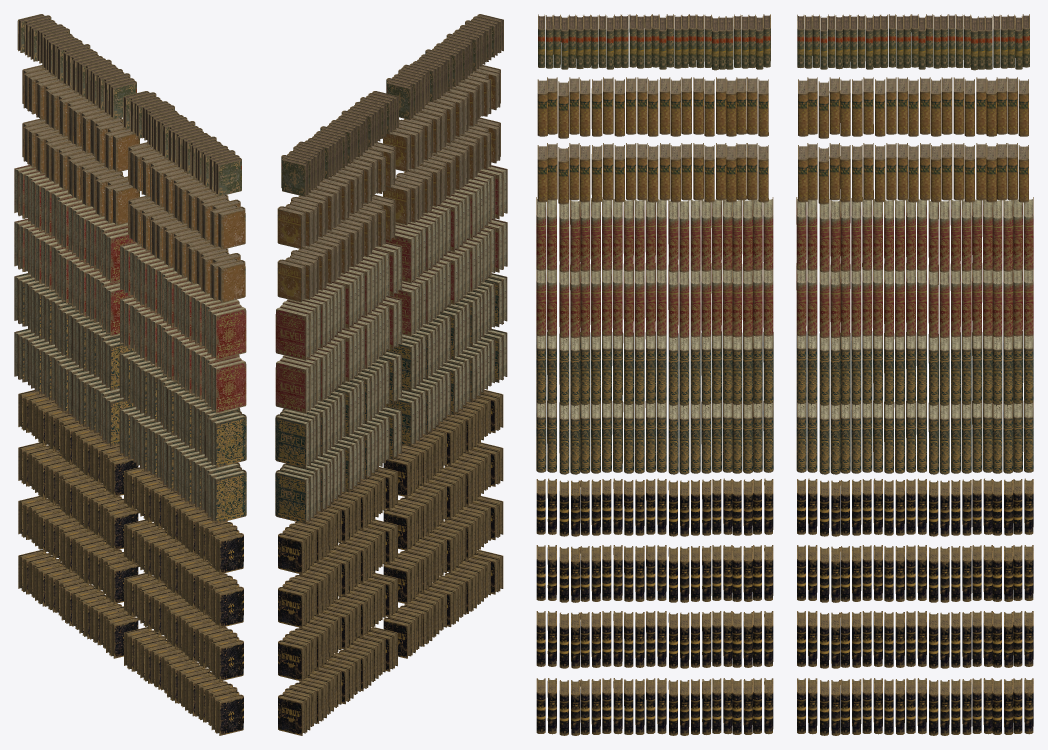
Rendered from sm39_178_largebookshelsetf01.fbx.
3 renders of one model, left to right at view 1: azimuth 30°, elevation 25°; view 2: azimuth 150°, elevation 25°; view 3: azimuth 270°, elevation 25°, orthographic. The views are drawn at different scales.
Visible parts, largest first — view 1: LOD_1_Group_3_Sub_1__sm36_001_BookSet01A_A_Mat, LOD_1_Group_2_Sub_1__sm36_001_BookSet01A_A_Mat, LOD_1_Group_4_Sub_1__sm36_001_BookSet01A_A_Mat, LOD_1_Group_5_Sub_1__sm36_001_BookSet01A_A_Mat, LOD_1_Group_7_Sub_1__sm36_001_BookSet01A_A_Mat, LOD_1_Group_8_Sub_1__sm36_001_BookSet01A_A_Mat, LOD_1_Group_6_Sub_1__sm36_001_BookSet01A_A_Mat; view 2: LOD_1_Group_3_Sub_1__sm36_001_BookSet01A_A_Mat, LOD_1_Group_4_Sub_1__sm36_001_BookSet01A_A_Mat, LOD_1_Group_2_Sub_1__sm36_001_BookSet01A_A_Mat, LOD_1_Group_5_Sub_1__sm36_001_BookSet01A_A_Mat, LOD_1_Group_7_Sub_1__sm36_001_BookSet01A_A_Mat, LOD_1_Group_6_Sub_1__sm36_001_BookSet01A_A_Mat, LOD_1_Group_8_Sub_1__sm36_001_BookSet01A_A_Mat; view 3: LOD_1_Group_3_Sub_1__sm36_001_BookSet01A_A_Mat, LOD_1_Group_4_Sub_1__sm36_001_BookSet01A_A_Mat, LOD_1_Group_2_Sub_1__sm36_001_BookSet01A_A_Mat, LOD_1_Group_5_Sub_1__sm36_001_BookSet01A_A_Mat, LOD_1_Group_7_Sub_1__sm36_001_BookSet01A_A_Mat, LOD_1_Group_6_Sub_1__sm36_001_BookSet01A_A_Mat, LOD_1_Group_8_Sub_1__sm36_001_BookSet01A_A_Mat.
Boxes of the visible parts, box(x1,y1,x2,y2) form: LOD_1_Group_3_Sub_1__sm36_001_BookSet01A_A_Mat: box(17, 14, 243, 681); LOD_1_Group_2_Sub_1__sm36_001_BookSet01A_A_Mat: box(119, 91, 246, 735); LOD_1_Group_4_Sub_1__sm36_001_BookSet01A_A_Mat: box(14, 118, 246, 467); LOD_1_Group_5_Sub_1__sm36_001_BookSet01A_A_Mat: box(22, 65, 245, 249); LOD_1_Group_7_Sub_1__sm36_001_BookSet01A_A_Mat: box(14, 329, 133, 446); LOD_1_Group_8_Sub_1__sm36_001_BookSet01A_A_Mat: box(18, 550, 138, 658); LOD_1_Group_6_Sub_1__sm36_001_BookSet01A_A_Mat: box(14, 218, 132, 336); LOD_1_Group_3_Sub_1__sm36_001_BookSet01A_A_Mat: box(278, 91, 503, 681); LOD_1_Group_4_Sub_1__sm36_001_BookSet01A_A_Mat: box(275, 165, 507, 468); LOD_1_Group_2_Sub_1__sm36_001_BookSet01A_A_Mat: box(383, 14, 507, 658); LOD_1_Group_5_Sub_1__sm36_001_BookSet01A_A_Mat: box(277, 65, 500, 248); LOD_1_Group_7_Sub_1__sm36_001_BookSet01A_A_Mat: box(275, 406, 401, 523); LOD_1_Group_6_Sub_1__sm36_001_BookSet01A_A_Mat: box(275, 296, 402, 413); LOD_1_Group_8_Sub_1__sm36_001_BookSet01A_A_Mat: box(278, 627, 397, 735); LOD_1_Group_3_Sub_1__sm36_001_BookSet01A_A_Mat: box(536, 14, 1033, 668); LOD_1_Group_4_Sub_1__sm36_001_BookSet01A_A_Mat: box(536, 143, 1033, 405); LOD_1_Group_2_Sub_1__sm36_001_BookSet01A_A_Mat: box(536, 14, 773, 735); LOD_1_Group_5_Sub_1__sm36_001_BookSet01A_A_Mat: box(537, 77, 1028, 138); LOD_1_Group_7_Sub_1__sm36_001_BookSet01A_A_Mat: box(796, 401, 1033, 474); LOD_1_Group_6_Sub_1__sm36_001_BookSet01A_A_Mat: box(796, 263, 1033, 338); LOD_1_Group_8_Sub_1__sm36_001_BookSet01A_A_Mat: box(797, 678, 1033, 735).
Size of the model in its own units: 0.2351 by 3.66 by 2.35.
